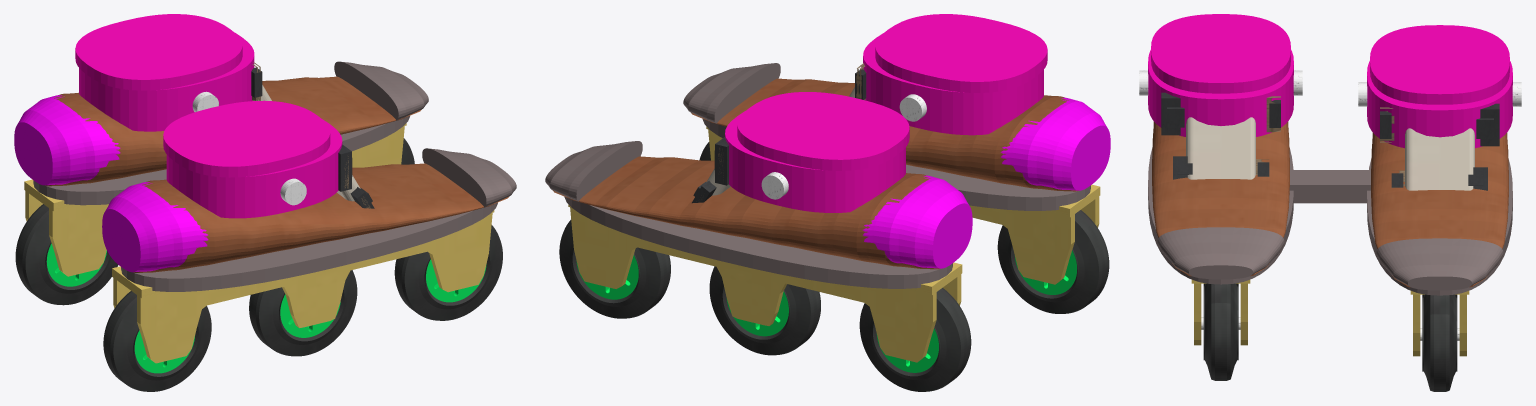
File: Sports_Roller_scates__0044.glb
The picture shows the model from 3 angles, left to right: view 1: azimuth 30°, elevation 25°; view 2: azimuth 150°, elevation 25°; view 3: azimuth 270°, elevation 25°; orthographic projection. The views are drawn at different scales.
Parts seen in each view (by area): view 1: right_boot::shell, right_frame::rail_lateral, right_cuff::upper_collar, left_cuff::upper_collar, right_boot::sole, left_boot::shell, right_cuff::collar, left_boot::heel_panel, right_boot::heel_panel, left_cuff::collar, left_frame::rail_medial, right_wheel_2::tire (+14 smaller); view 2: left_boot::shell, left_frame::rail_lateral, right_cuff::upper_collar, left_cuff::upper_collar, left_boot::sole, right_boot::shell, right_boot::heel_panel, left_boot::heel_panel, left_cuff::collar, right_cuff::collar, right_frame::rail_medial, left_wheel_2::tire (+15 smaller); view 3: left_boot::shell, right_boot::shell, left_cuff::upper_collar, right_cuff::upper_collar, left_boot::toe_bumper, right_boot::toe_bumper, left_cuff::collar, right_cuff::collar, left_boot::tongue, right_boot::tongue, left_wheel_0::tire, right_wheel_0::tire (+11 smaller).
Boxes of the visible parts, left/top/right/bottom form: right_boot::shell: left=133, top=163, right=509, bottom=272; right_frame::rail_lateral: left=137, top=213, right=492, bottom=363; right_cuff::upper_collar: left=163, top=100, right=330, bottom=177; left_cuff::upper_collar: left=75, top=14, right=242, bottom=90; right_boot::sole: left=121, top=202, right=497, bottom=291; left_boot::shell: left=45, top=76, right=421, bottom=186; right_cuff::collar: left=166, top=119, right=342, bottom=218; left_boot::heel_panel: left=14, top=95, right=120, bottom=185; right_boot::heel_panel: left=102, top=182, right=208, bottom=272; left_cuff::collar: left=79, top=32, right=254, bottom=131; left_frame::rail_medial: left=49, top=126, right=404, bottom=276; right_wheel_2::tire: left=103, top=291, right=211, bottom=391; left_boot::shell: left=552, top=156, right=939, bottom=269; left_frame::rail_lateral: left=570, top=207, right=936, bottom=362; right_cuff::upper_collar: left=875, top=14, right=1047, bottom=92; left_cuff::upper_collar: left=737, top=92, right=909, bottom=170; left_boot::sole: left=564, top=196, right=952, bottom=288; right_boot::shell: left=691, top=78, right=1078, bottom=191; right_boot::heel_panel: left=1000, top=97, right=1110, bottom=190; left_boot::heel_panel: left=862, top=175, right=972, bottom=268; left_cuff::collar: left=725, top=111, right=905, bottom=212; right_cuff::collar: left=863, top=33, right=1043, bottom=135; right_frame::rail_medial: left=708, top=129, right=1074, bottom=284; left_wheel_2::tire: left=859, top=287, right=971, bottom=391; left_boot::shell: left=1371, top=132, right=1508, bottom=287; right_boot::shell: left=1152, top=121, right=1289, bottom=276; left_cuff::upper_collar: left=1370, top=25, right=1509, bottom=104; right_cuff::upper_collar: left=1151, top=14, right=1290, bottom=93; left_boot::toe_bumper: left=1376, top=238, right=1503, bottom=290; right_boot::toe_bumper: left=1157, top=227, right=1284, bottom=279; left_cuff::collar: left=1367, top=61, right=1512, bottom=148; right_cuff::collar: left=1148, top=50, right=1293, bottom=136; left_boot::tongue: left=1405, top=128, right=1474, bottom=190; right_boot::tongue: left=1186, top=117, right=1255, bottom=179; left_wheel_0::tire: left=1422, top=294, right=1457, bottom=391; right_wheel_0::tire: left=1203, top=283, right=1238, bottom=380.
Bounding box in the file's own units: 0.3251 × 0.1736 × 0.262.
Materials: 13 (9 with a texture image).
